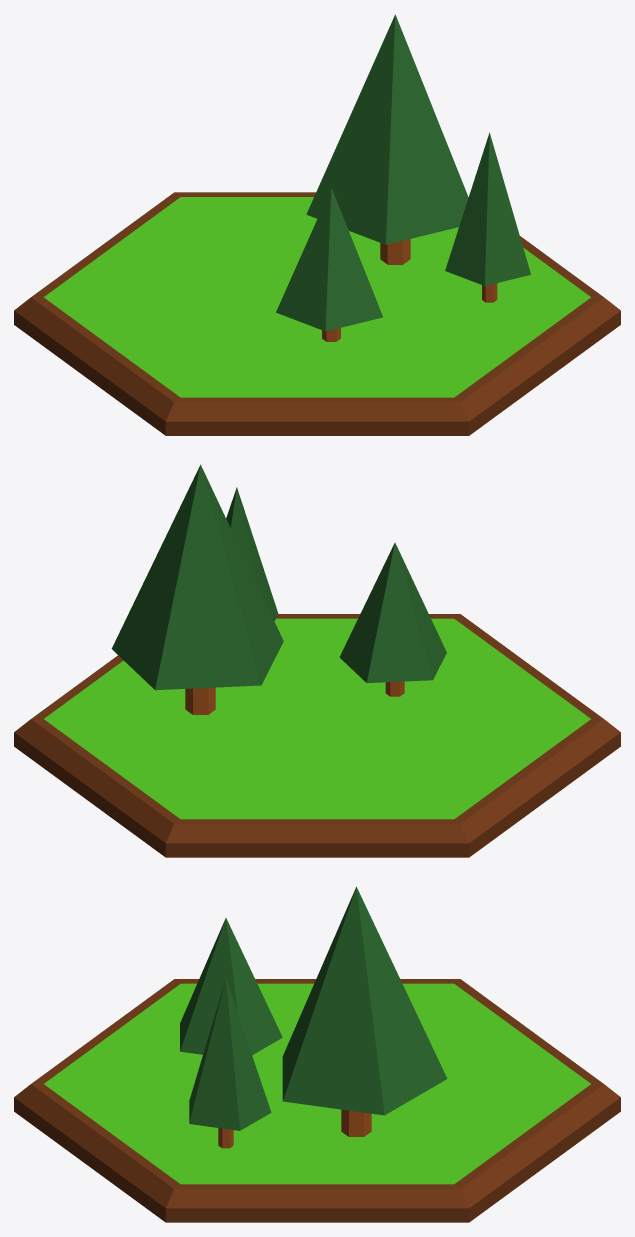
File: trees_hex.fbx
3 renders of one model, top to bottom at view 1: azimuth 30°, elevation 25°; view 2: azimuth 150°, elevation 25°; view 3: azimuth 270°, elevation 25°, orthographic.
Visible parts, largest first — view 1: Cylinder, Cylinder.002, Cylinder.001, Cylinder.003; view 2: Cylinder, Cylinder.002, Cylinder.001, Cylinder.003; view 3: Cylinder, Cylinder.002, Cylinder.003, Cylinder.001.
Part boxes in pixels (x1=…): Cylinder: x1=14, y1=192, x2=620, y2=435; Cylinder.002: x1=306, y1=14, x2=468, y2=264; Cylinder.001: x1=276, y1=188, x2=382, y2=341; Cylinder.003: x1=445, y1=132, x2=530, y2=302; Cylinder: x1=14, y1=614, x2=620, y2=857; Cylinder.002: x1=111, y1=464, x2=283, y2=714; Cylinder.001: x1=339, y1=542, x2=446, y2=696; Cylinder.003: x1=226, y1=487, x2=278, y2=620; Cylinder: x1=14, y1=979, x2=620, y2=1222; Cylinder.002: x1=282, y1=886, x2=447, y2=1136; Cylinder.003: x1=189, y1=978, x2=271, y2=1148; Cylinder.001: x1=180, y1=918, x2=282, y2=1055.
Size of the model in its own units: 173 by 99.13 by 200.
